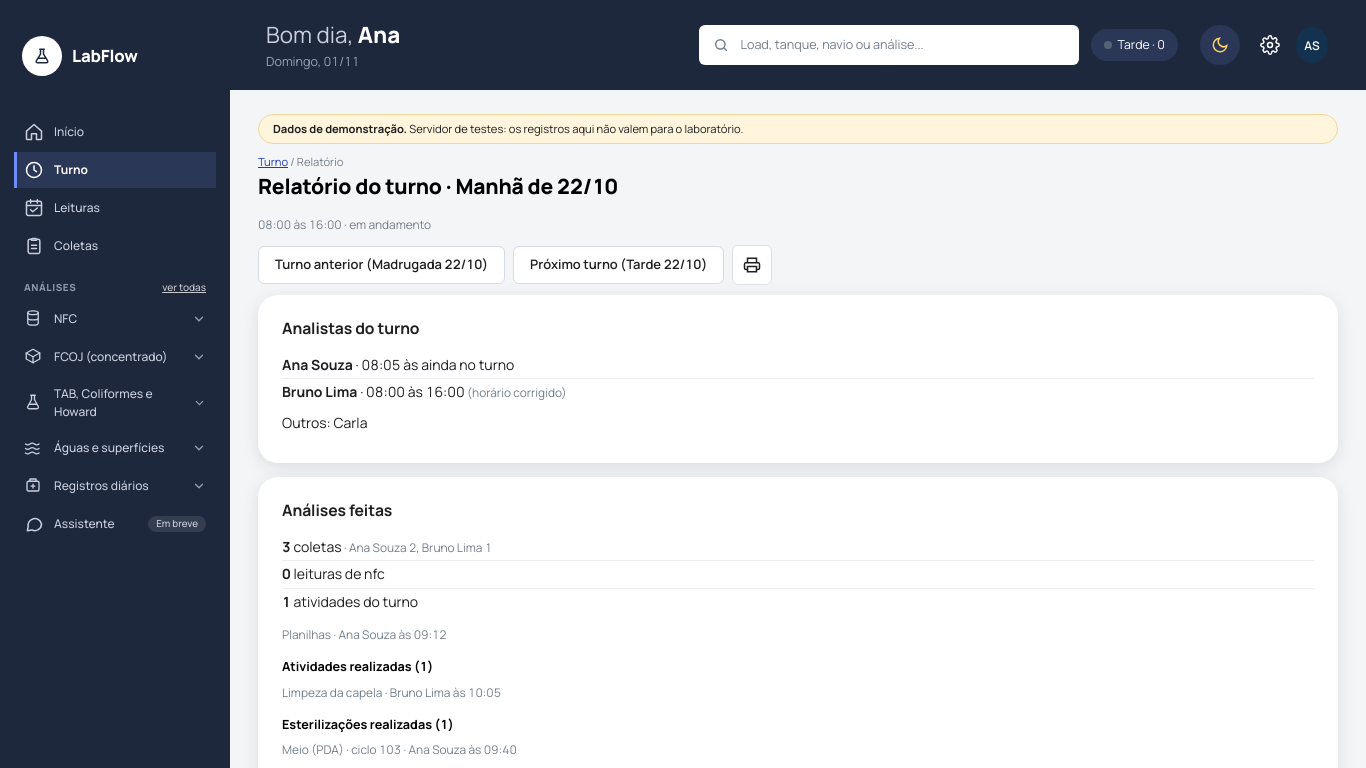
Test: Relatório do turno (APP-024) › os botões de turno anterior e próximo levam ao turno certo
The width and height of the screenshot is (1366, 768).
Click the link "Turno anterior (Madrugada 22/10)" at {"x": 382, "y": 265}, box [258, 246, 505, 284]
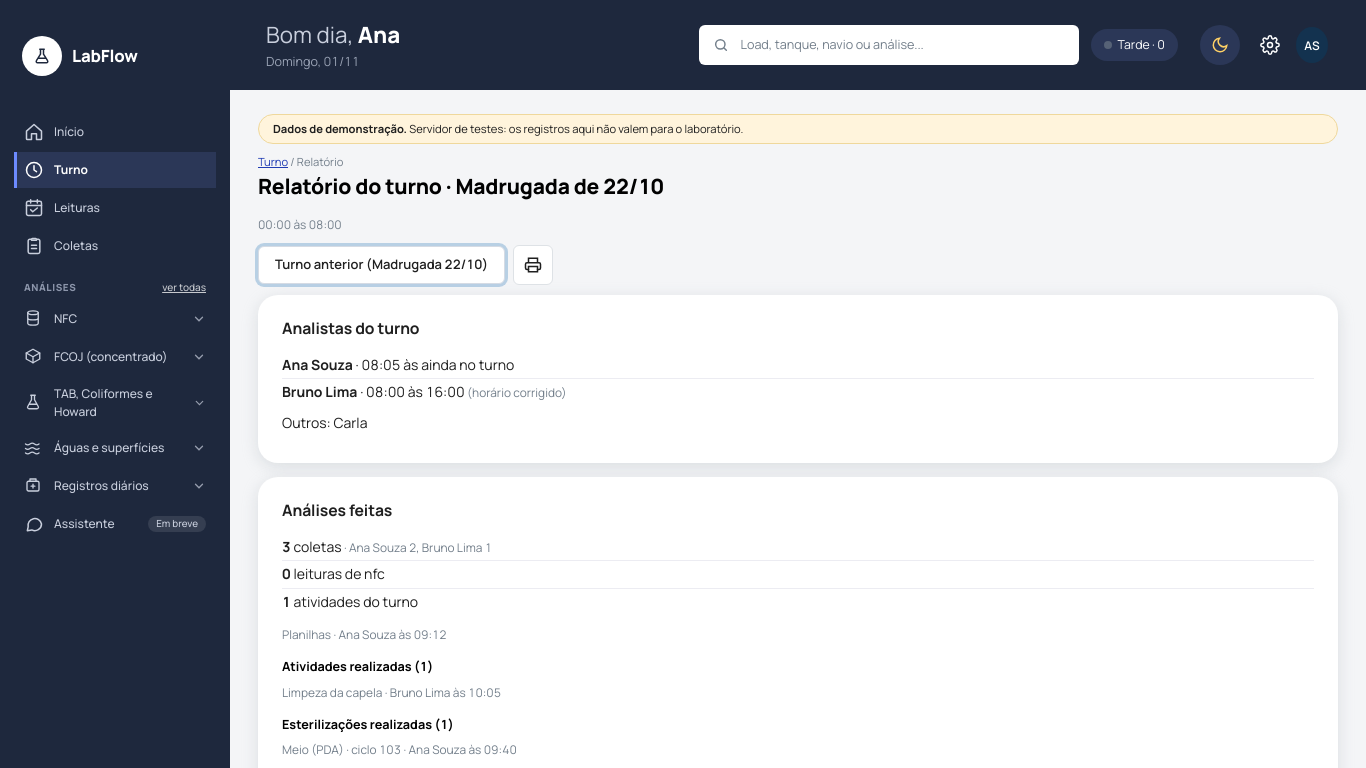
Expected: the heading "Relatório do turno · Madrugada de 22/10" is shown, [258, 172, 664, 200]
